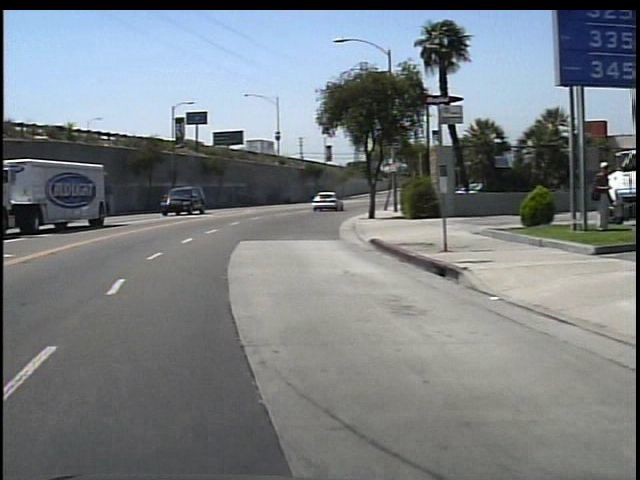person: (582, 158, 609, 235)
